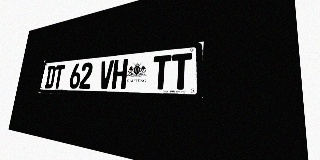2: (79, 62, 93, 89)
6: (69, 63, 82, 89)
D: (44, 65, 56, 88)
H: (111, 59, 128, 89)
T: (170, 53, 192, 90), (151, 55, 171, 89), (53, 65, 65, 88)
V: (98, 60, 114, 89)
